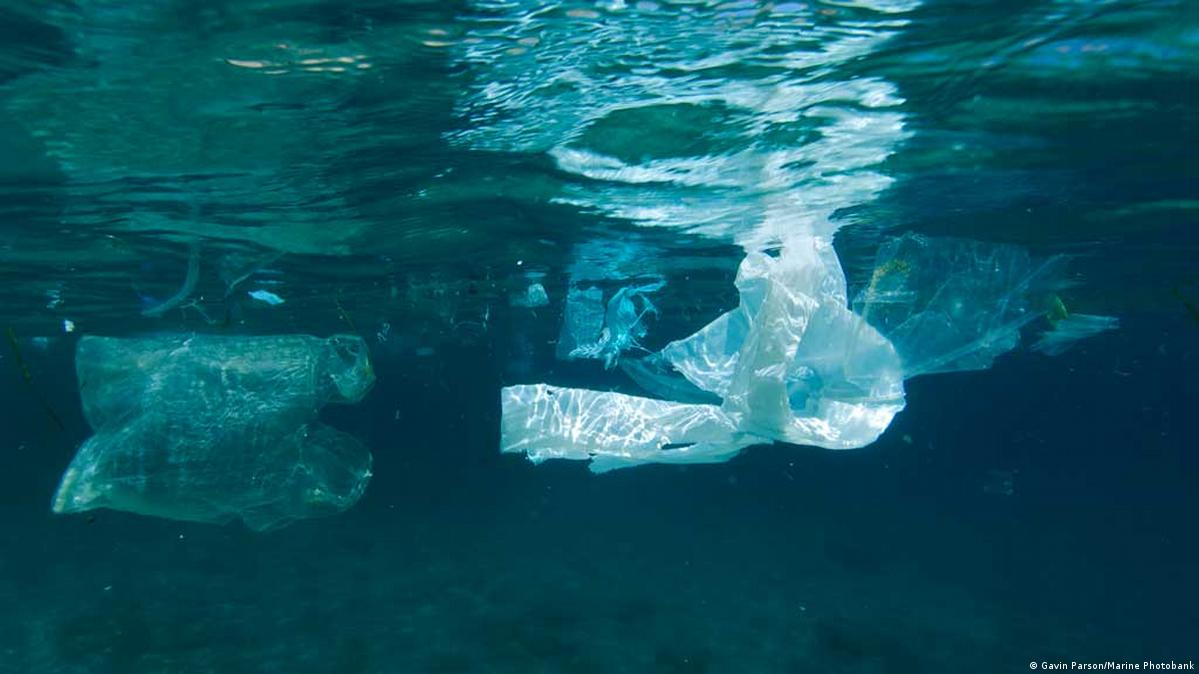Plastic: (490, 246, 915, 476), (27, 320, 401, 521), (826, 228, 1128, 390), (553, 278, 667, 363)
